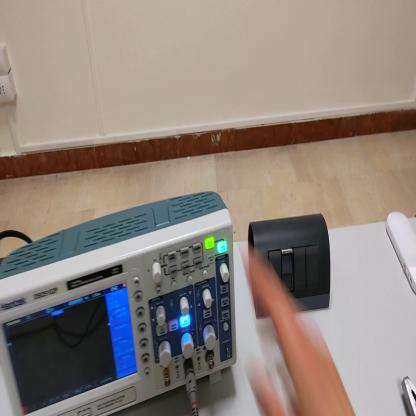hand: (241, 244, 359, 415)
oscilloscope: (2, 190, 237, 416)
pliers: (402, 377, 416, 414)
